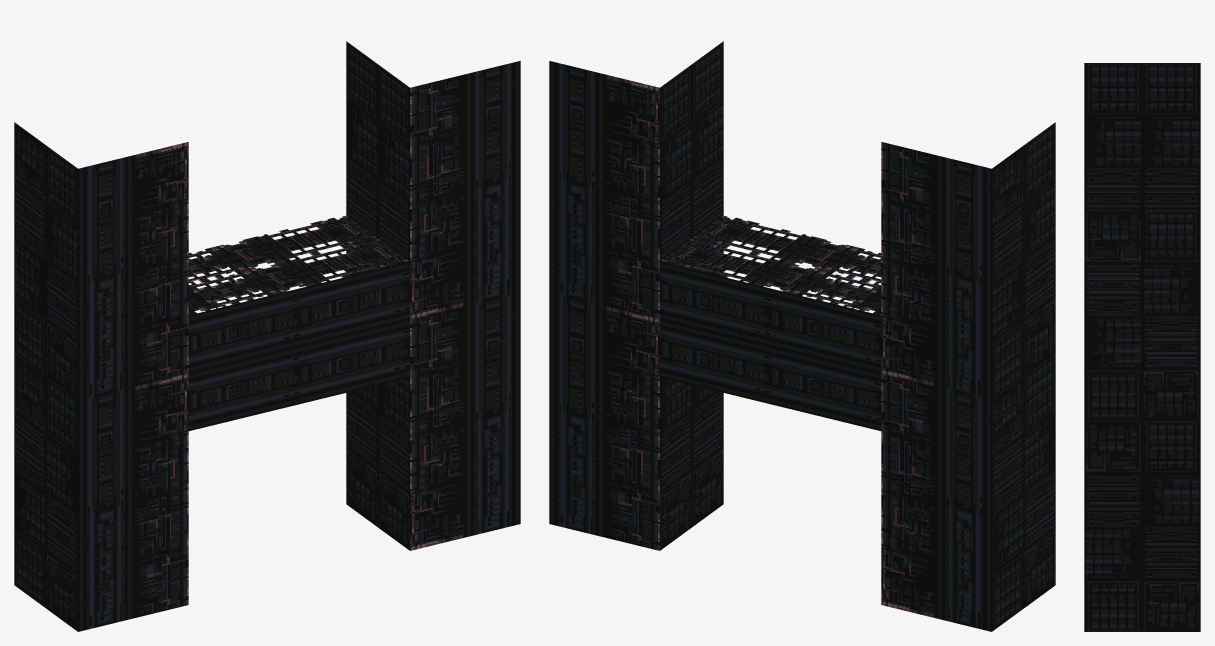
The model's file is ladder00.gltf.
3 renders of one model, left to right at view 1: azimuth 30°, elevation 25°; view 2: azimuth 150°, elevation 25°; view 3: azimuth 270°, elevation 25°, orthographic. The views are drawn at different scales.
Bounding box in the file's own units: 16 × 16 × 4.
Materials: 1 (1 with a texture image).
